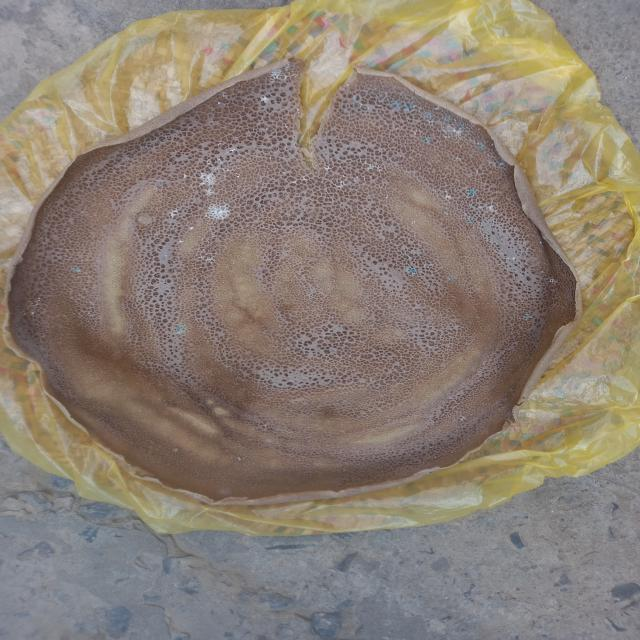injera_mold: (207, 140, 244, 179), (321, 169, 352, 190), (266, 61, 296, 82), (202, 202, 232, 222), (195, 172, 218, 197), (215, 87, 239, 108), (363, 159, 388, 177), (192, 250, 217, 265), (436, 127, 467, 138), (474, 203, 499, 216), (255, 95, 273, 106), (172, 326, 185, 336), (546, 275, 558, 285), (70, 265, 84, 273), (168, 210, 182, 218), (422, 134, 432, 145), (423, 112, 435, 121), (390, 100, 400, 110), (476, 142, 486, 152), (466, 187, 476, 196), (235, 456, 245, 464), (407, 267, 417, 275), (404, 103, 414, 110), (524, 313, 532, 321), (458, 416, 468, 422), (155, 179, 165, 185), (352, 102, 362, 108), (466, 218, 474, 225), (173, 448, 180, 454), (423, 264, 432, 268), (189, 226, 196, 231), (447, 275, 452, 281), (182, 173, 188, 178), (178, 240, 185, 244), (444, 116, 450, 120), (458, 122, 465, 125)
